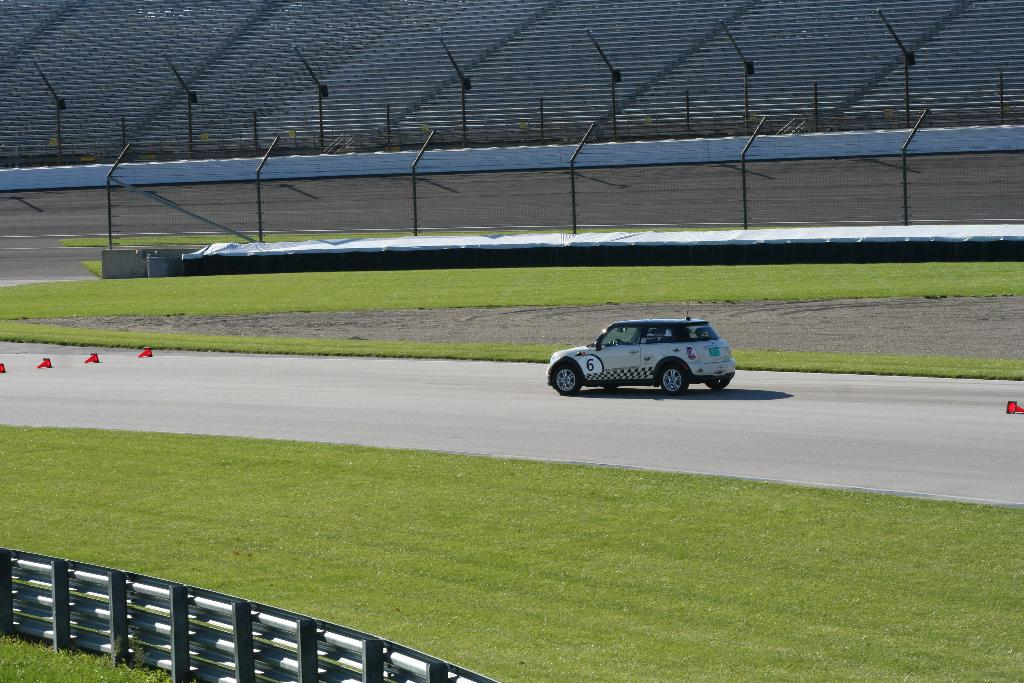Car: (545, 299, 734, 395)
